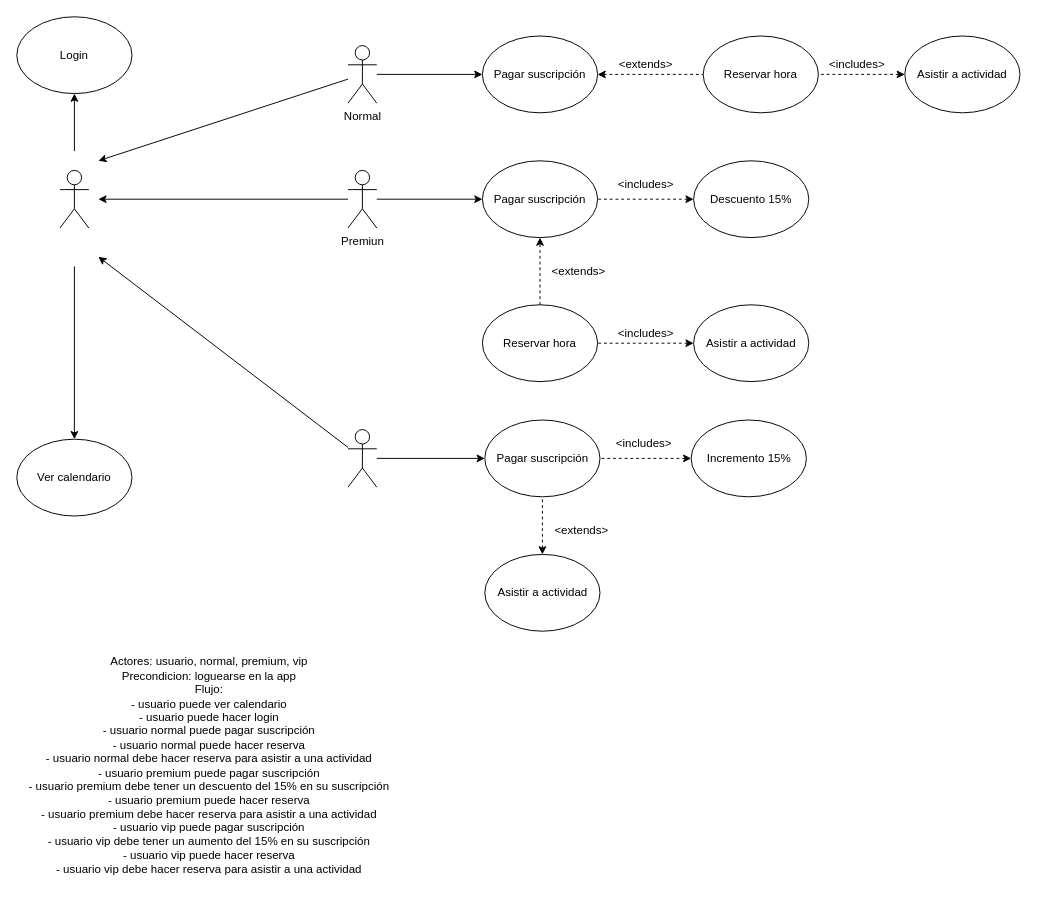
Image size: 1037x898. Some labels were removed from this diagram. The shapes that lost their labels are listed below. From the top down, each one's centre as x and y in pixels, then its label:
point 74,198: Usuario
point 362,458: VIP
